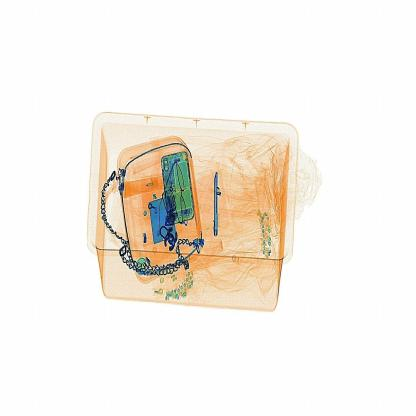pliers: (205, 167, 231, 241)
